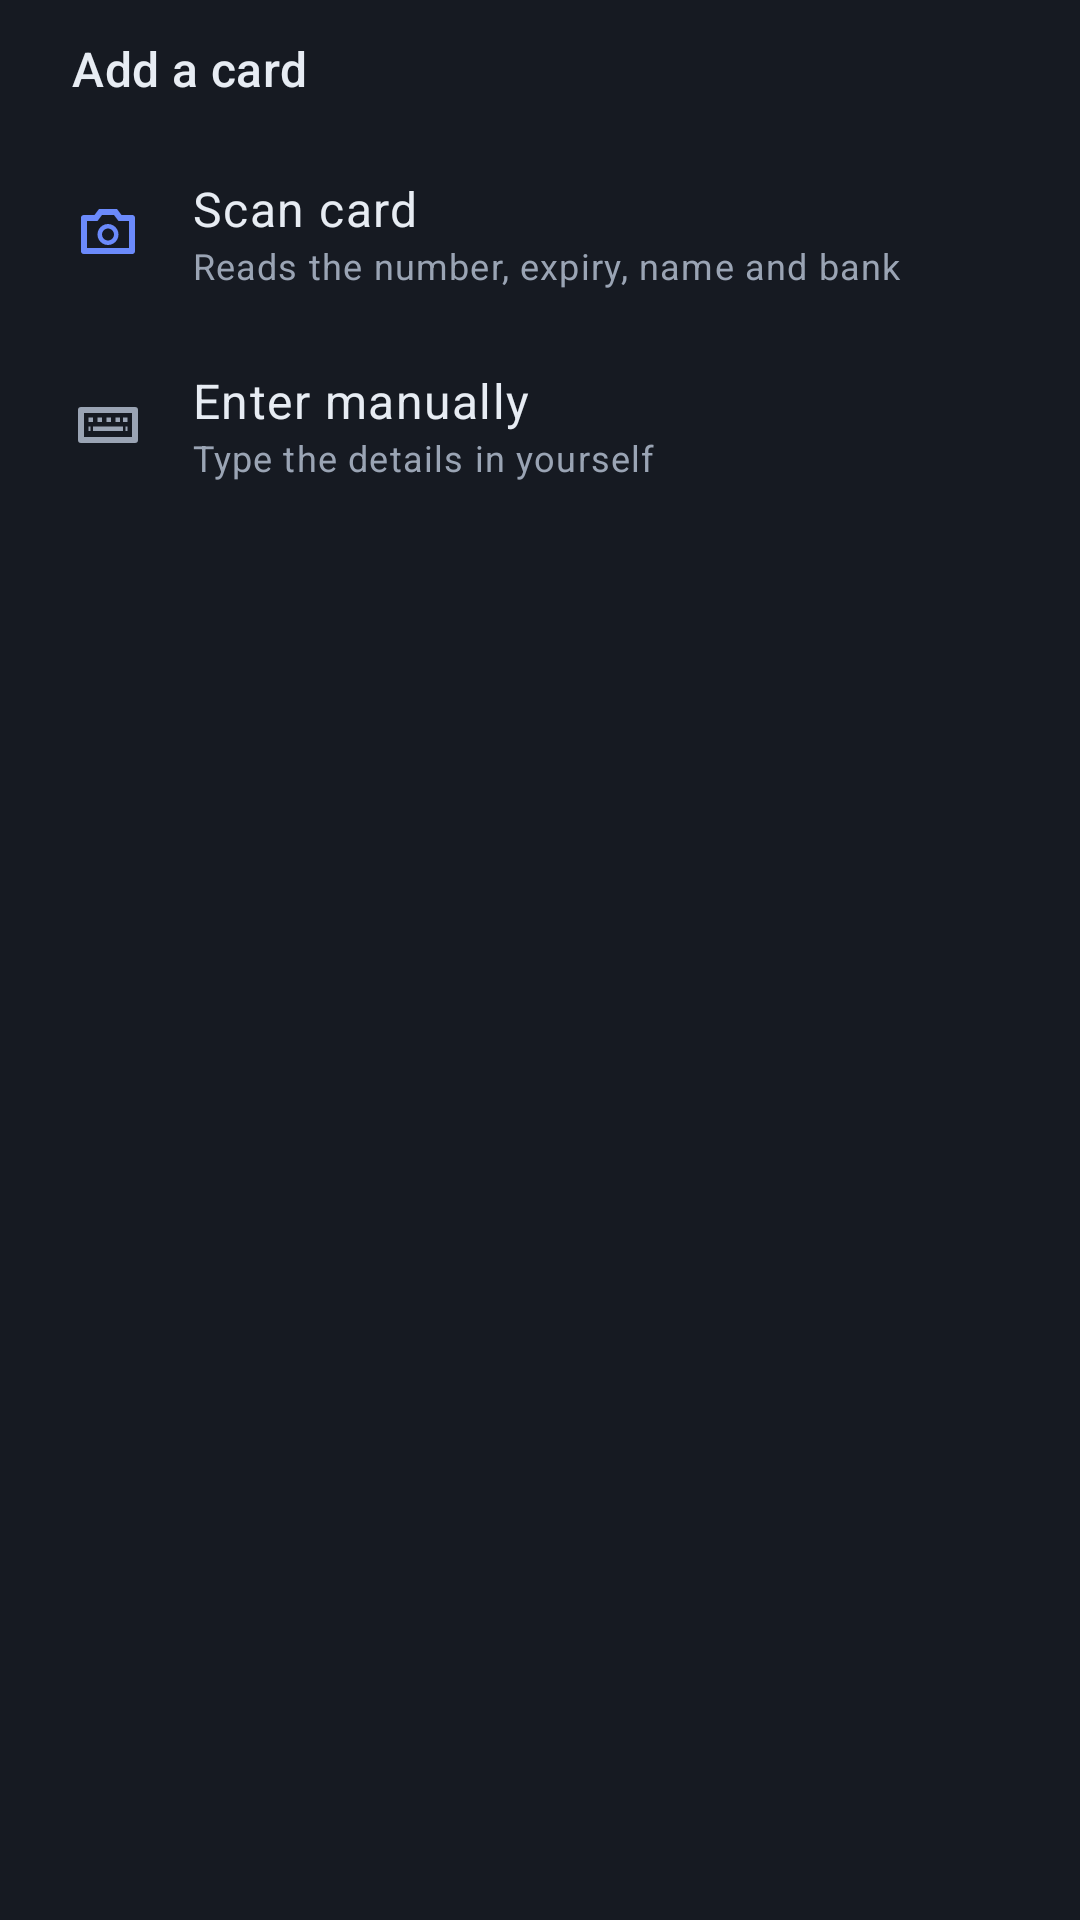

Where icons sit on this 1080px x 1920px app screen, as {"left": x1, "top": y1, "right": x2, "bottom": y2}:
camera: {"left": 81, "top": 209, "right": 135, "bottom": 254}
keyboard: {"left": 78, "top": 407, "right": 138, "bottom": 443}
